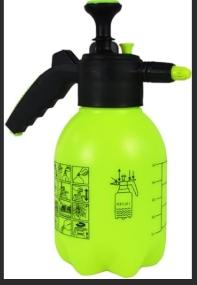PULVERISATEUR: (2, 0, 190, 282)
